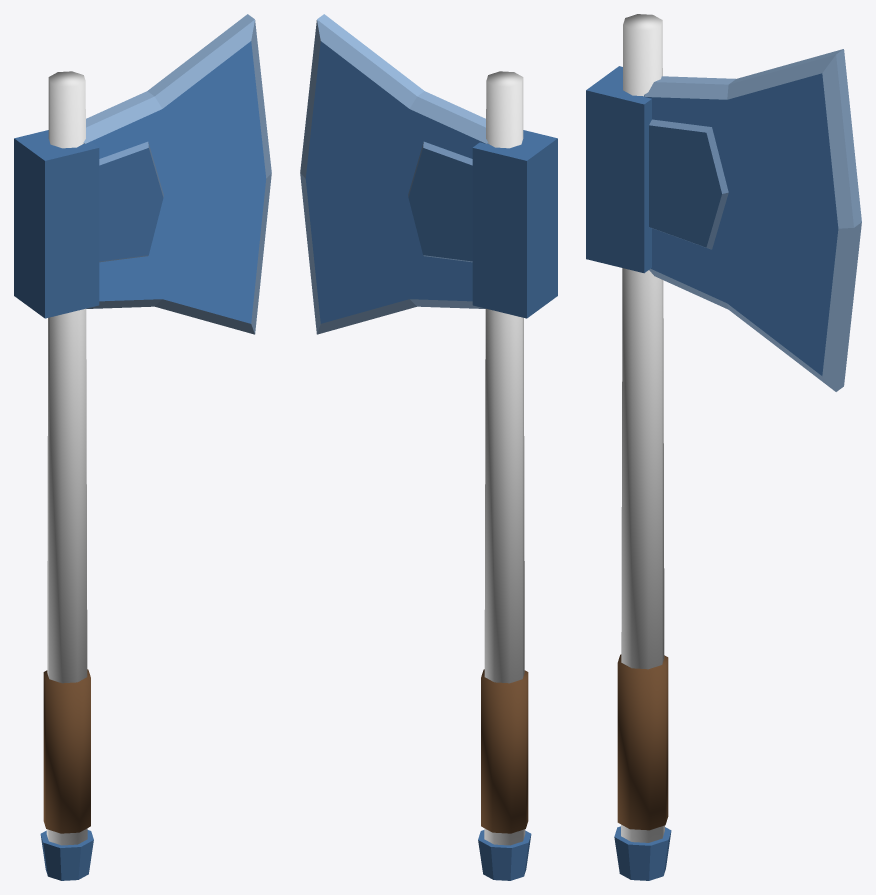
Rendered from stardust_hamaxe.glb.
3 renders of one model, left to right at view 1: azimuth 30°, elevation 25°; view 2: azimuth 150°, elevation 25°; view 3: azimuth 330°, elevation 25°, orthographic. The views are drawn at different scales.
Parts seen in each view (by area): view 1: stardust_hamaxe_v0; view 2: stardust_hamaxe_v0; view 3: stardust_hamaxe_v0.
Boxes of the visible parts, <box> form: stardust_hamaxe_v0: <box>14,14,271,880</box>; stardust_hamaxe_v0: <box>300,14,557,880</box>; stardust_hamaxe_v0: <box>586,14,861,880</box>.
Bounding box in the file's own units: 0.285 × 0.925 × 0.064.
